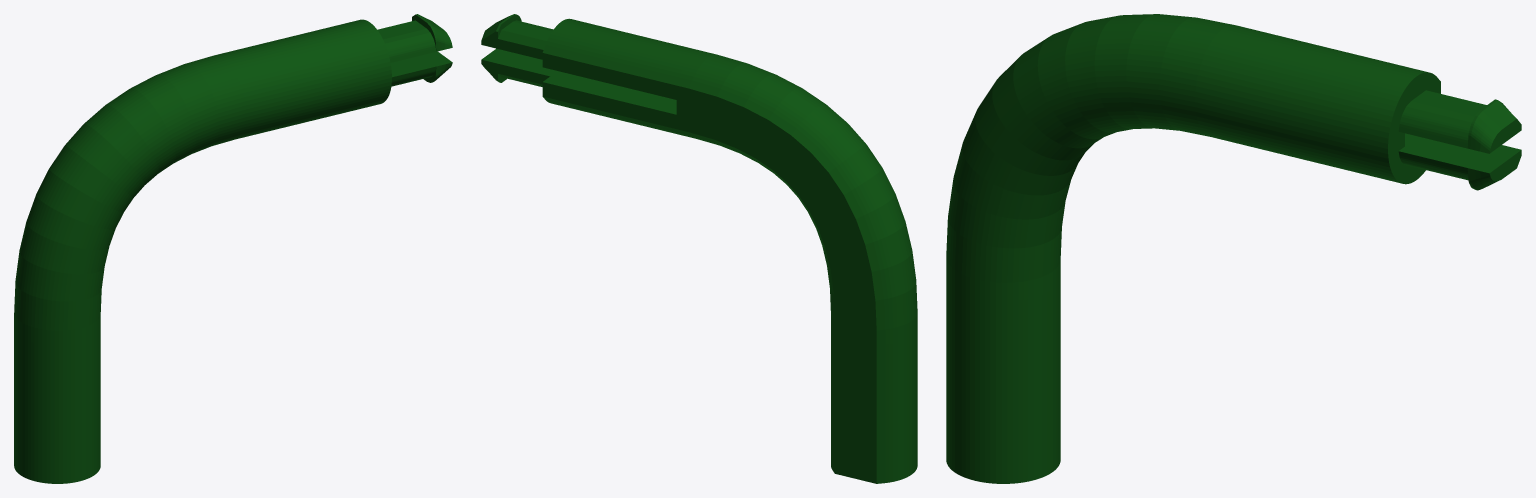
File: stem_1A_90_R.glb
3 views of the same model, side by side, from view 1: azimuth 30°, elevation 25°; view 2: azimuth 150°, elevation 25°; view 3: azimuth 330°, elevation 25° (orthographic). The views are drawn at different scales.
Visible parts, largest first — view 1: stem_1A_90R; view 2: stem_1A_90R; view 3: stem_1A_90R.
Part boxes in pixels (x1,y1,x2,y2): stem_1A_90R: (14, 14, 452, 483); stem_1A_90R: (481, 14, 917, 483); stem_1A_90R: (946, 14, 1521, 483).
Size of the model in its own units: 0.0402 by 0.0336 by 0.00666.
